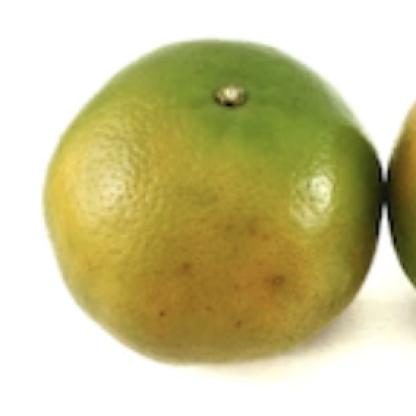fresh: (47, 41, 387, 368)
